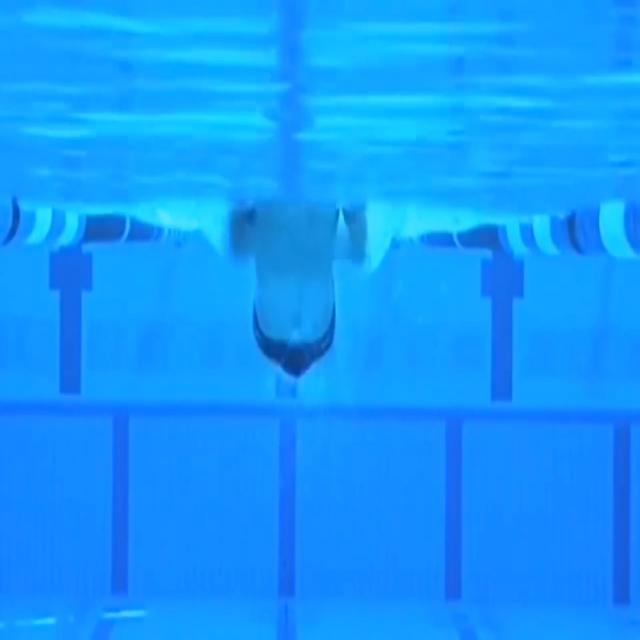Swimming: (230, 199, 368, 383)
